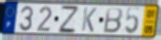2: (36, 6, 53, 33)
3: (18, 5, 35, 32)
5: (124, 6, 143, 36)
B: (102, 7, 124, 34)
K: (81, 7, 98, 34)
Z: (58, 5, 79, 35)
